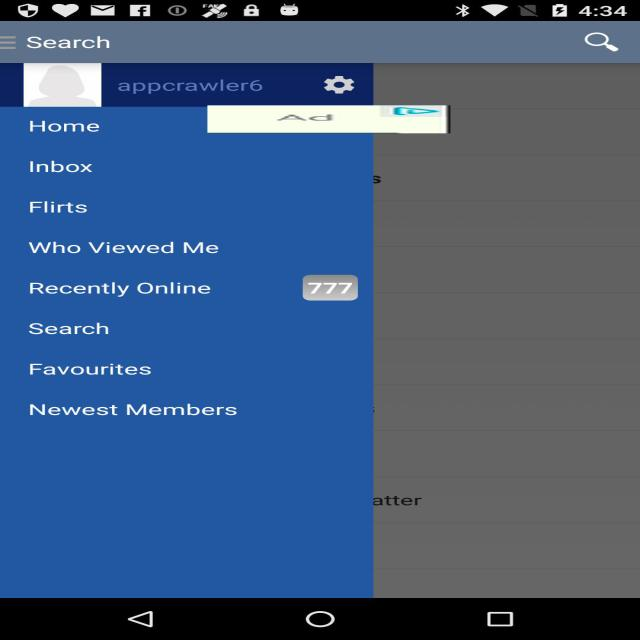sneaking: (208, 105, 450, 134)
